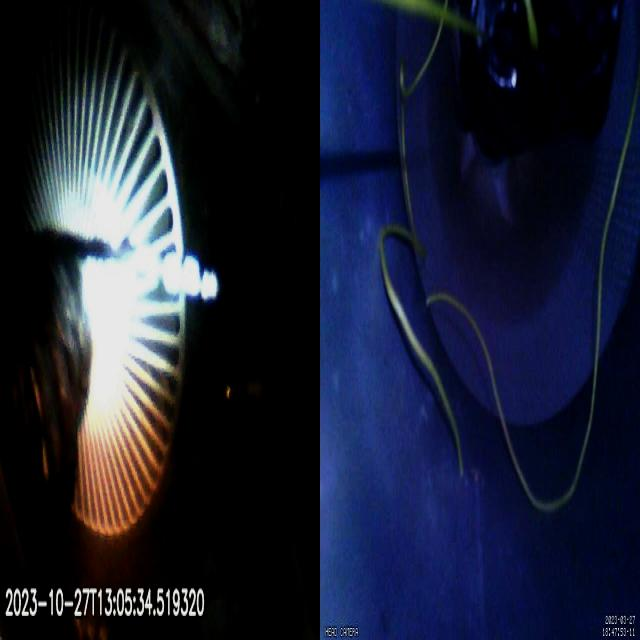white-dots: (162, 251, 218, 303)
